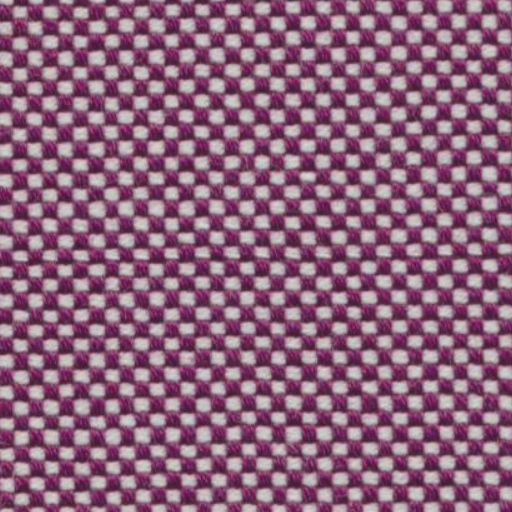TuoSha: (20, 208, 500, 291)
